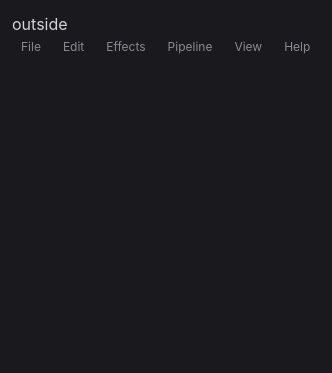
Test: MenuBar › closes the dropdown on outside click
Click the button "File" at x=31, y=47, box [12,36,50,58]
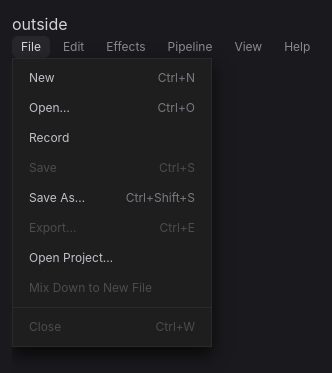
Expected: the text "Open…" is shown, [29,99,70,117]
Press the mouse on the text with test id "outside" at x=40, y=24, box [12,14,68,34]
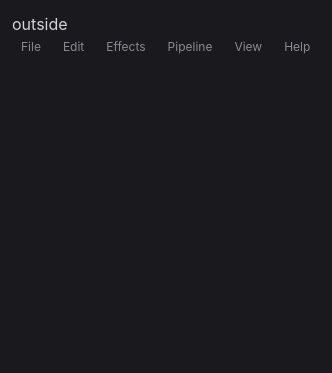
Expected: the button "Open…" is gone
